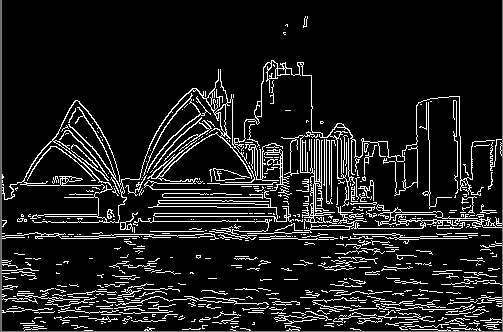opera house: (15, 84, 278, 234)
